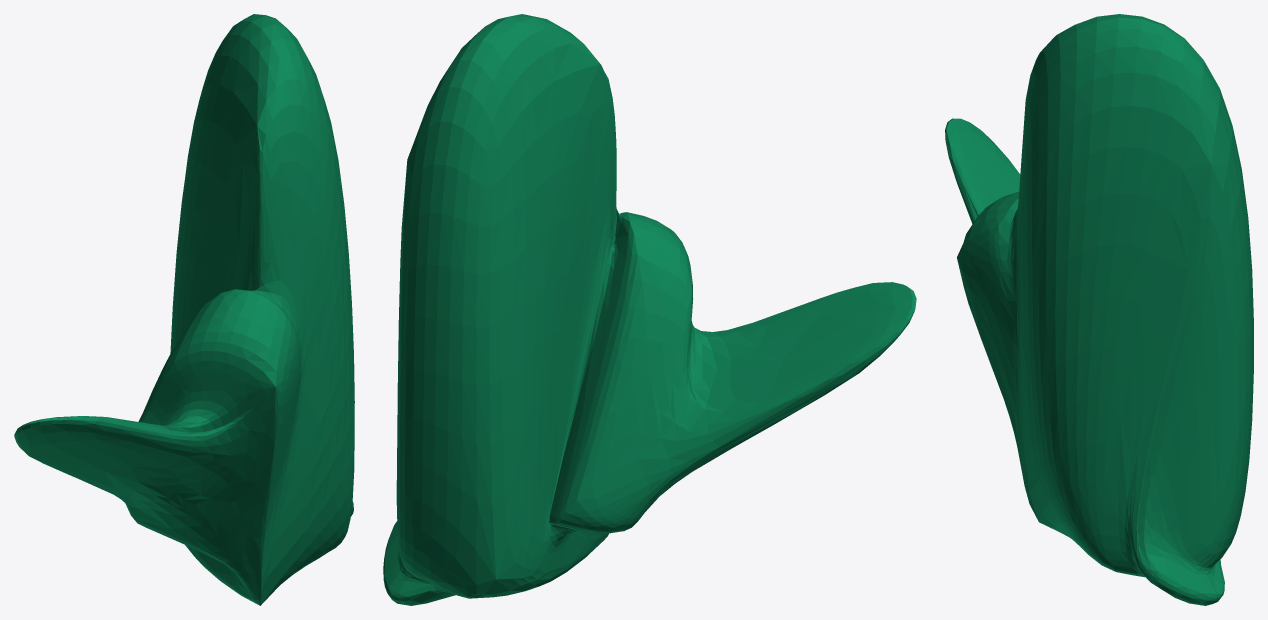
3 renders of one model, left to right at view 1: azimuth 30°, elevation 25°; view 2: azimuth 150°, elevation 25°; view 3: azimuth 270°, elevation 25°, orthographic.
Parts seen in each view (by area): view 1: 805_Cube.3244; view 2: 805_Cube.3244; view 3: 805_Cube.3244.
Boxes of the visible parts, x1,y1,x2,y2 form: 805_Cube.3244: [14, 14, 354, 605]; 805_Cube.3244: [383, 14, 916, 605]; 805_Cube.3244: [945, 14, 1253, 605].
Size of the model in its own units: 9.1 by 11.56 by 5.82.
